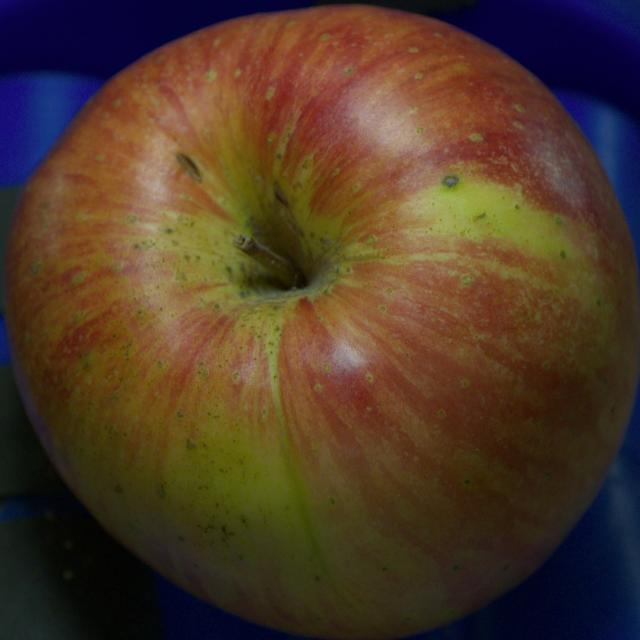apple: (6, 6, 639, 639)
pest: (442, 175, 458, 188)
scratch: (274, 185, 299, 233), (176, 153, 201, 181), (274, 185, 288, 207), (289, 267, 301, 275)
